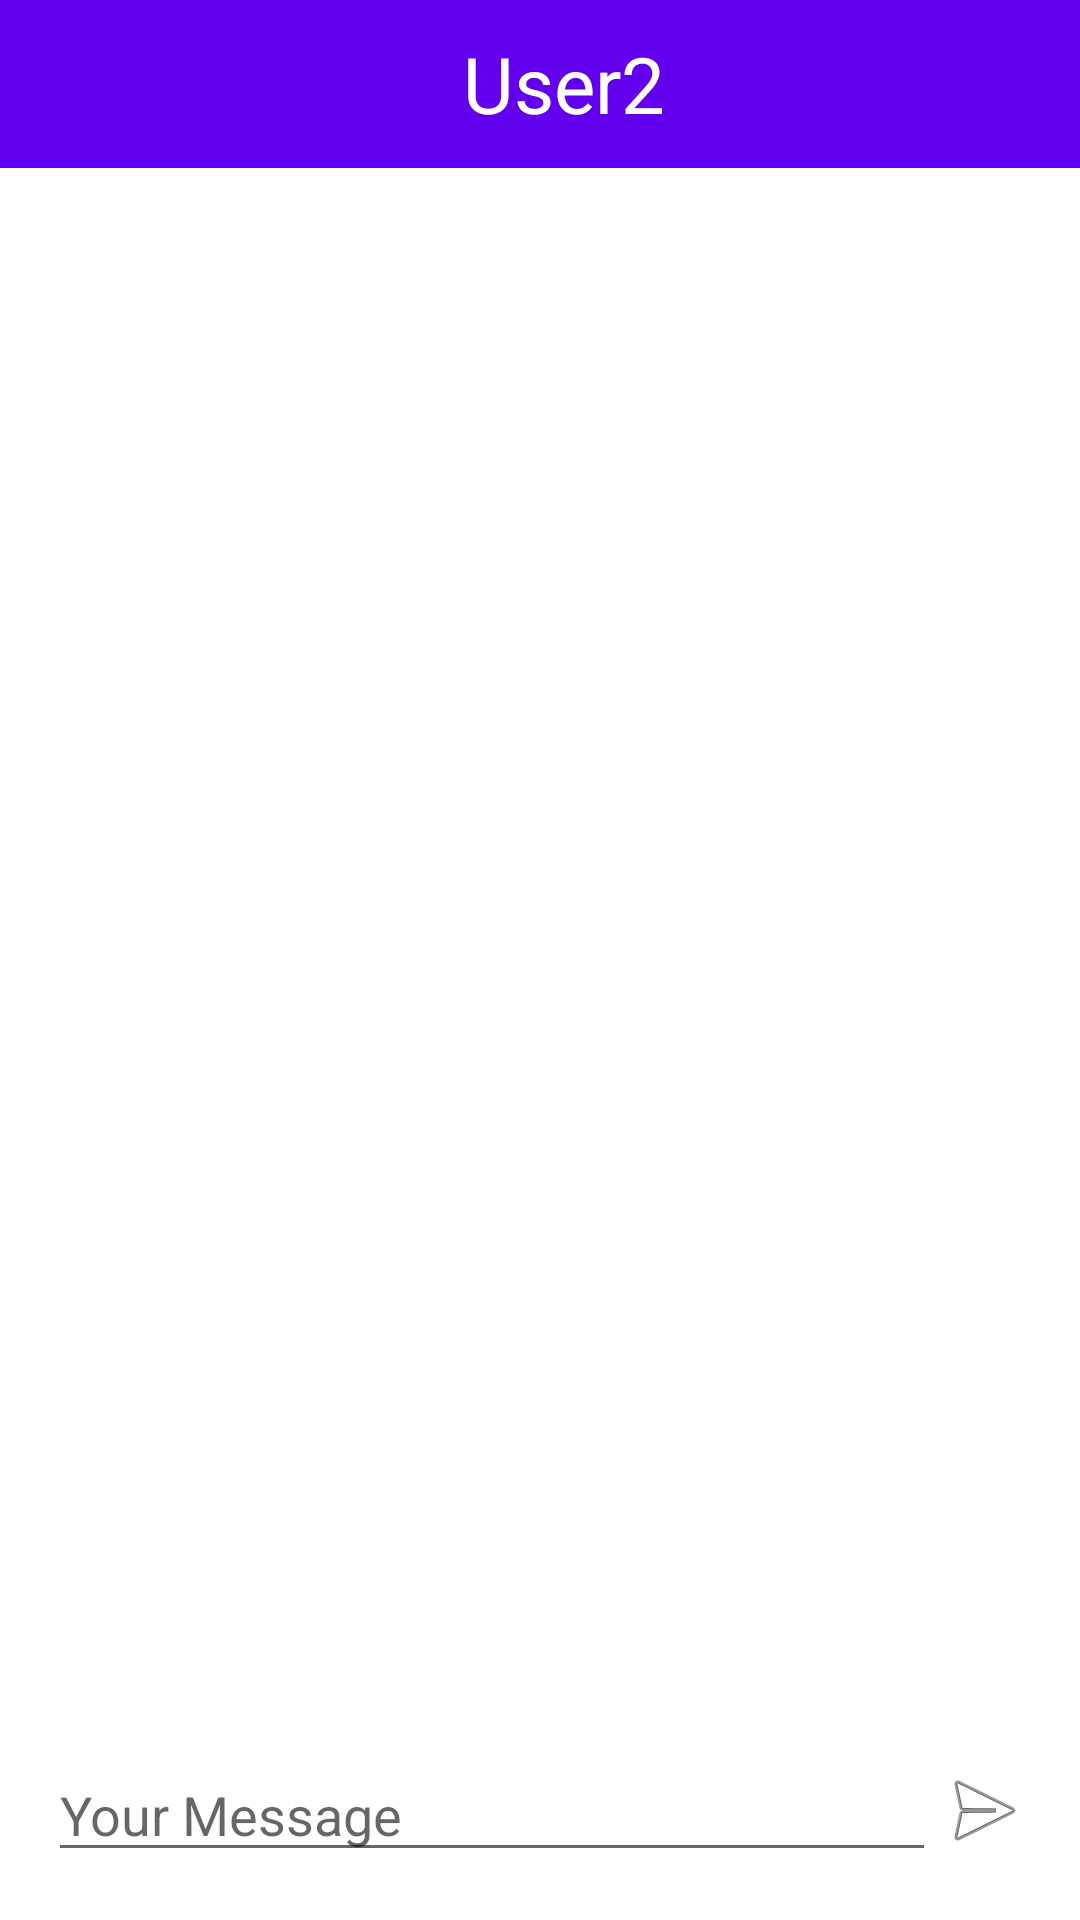

Where to tap for icons on this 1080×1920 app screen, as point (x, y):
send: point (985, 1810)
